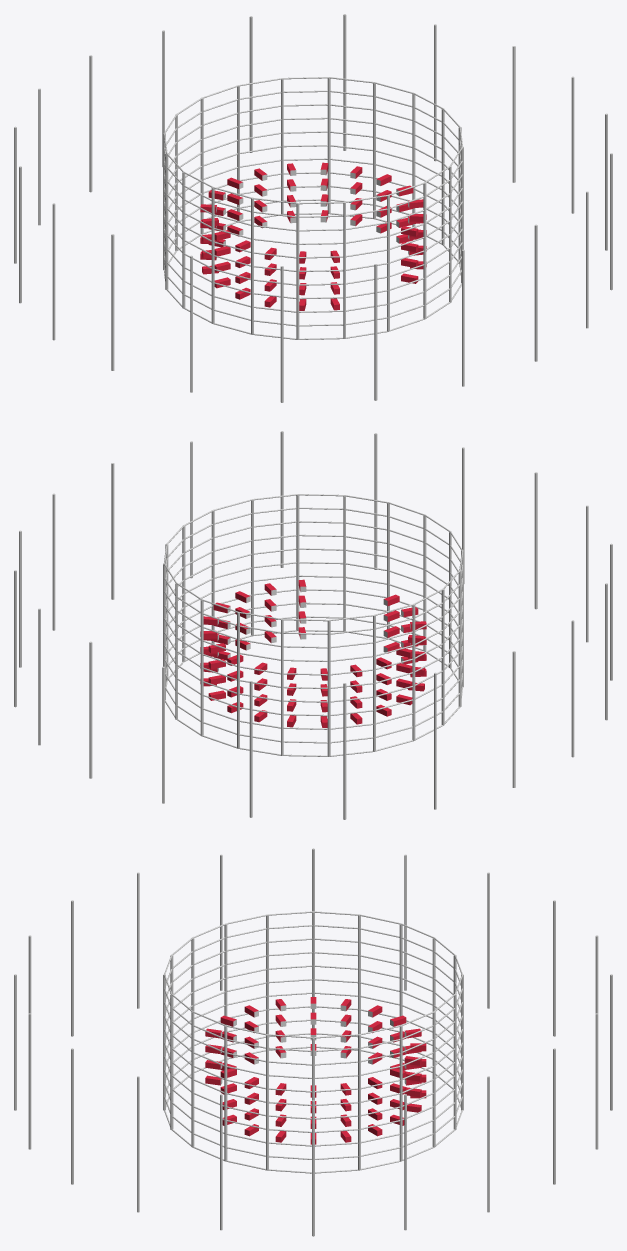
File: ExportedBlenderFBXFile.fbx
The picture shows the model from 3 angles, top to bottom: view 1: azimuth 30°, elevation 25°; view 2: azimuth 150°, elevation 25°; view 3: azimuth 270°, elevation 25°; orthographic projection.
Visible parts, largest first — view 1: Cylinder.012, Cylinder.011, Cylinder.002, Cylinder.005, Cylinder.010, Cylinder.013, Cylinder.001, Cylinder.014, Cylinder, Cylinder.003, Cylinder.015, Cylinder.006 (+16 smaller); view 2: Cylinder.016, Cylinder.006, Cylinder.018, Cylinder.017, Cylinder.015, Cylinder.005, Cylinder.007, Cylinder, Cylinder.019, Cylinder.008, Cylinder.001, Cylinder.009 (+15 smaller); view 3: Cylinder.003, Cylinder.004, Cylinder.008, Cylinder.007, Cylinder.014, Cylinder.002, Cylinder.019, Cylinder.009, Cylinder.013, Cylinder.018, Cylinder.006, Cylinder.001 (+9 smaller).
Boxes of the visible parts, x1=… form: Cylinder.012: x1=252, y1=197, x2=299, y2=339; Cylinder.011: x1=298, y1=202, x2=345, y2=339; Cylinder.002: x1=327, y1=77, x2=374, y2=218; Cylinder.005: x1=388, y1=182, x2=426, y2=331; Cylinder.010: x1=344, y1=195, x2=389, y2=338; Cylinder.013: x1=213, y1=187, x2=253, y2=334; Cylinder.001: x1=281, y1=77, x2=329, y2=214; Cylinder.014: x1=183, y1=171, x2=214, y2=323; Cylinder: x1=237, y1=78, x2=282, y2=221; Cylinder.003: x1=373, y1=82, x2=413, y2=224; Cylinder.015: x1=200, y1=85, x2=238, y2=234; Cylinder.006: x1=425, y1=165, x2=451, y2=318; Cylinder.016: x1=282, y1=618, x2=330, y2=756; Cylinder.006: x1=296, y1=494, x2=344, y2=631; Cylinder.018: x1=374, y1=604, x2=415, y2=751; Cylinder.017: x1=329, y1=615, x2=375, y2=756; Cylinder.015: x1=238, y1=612, x2=283, y2=755; Cylinder.005: x1=343, y1=495, x2=388, y2=638; Cylinder.007: x1=251, y1=494, x2=297, y2=635; Cylinder: x1=202, y1=599, x2=239, y2=748; Cylinder.019: x1=414, y1=588, x2=444, y2=740; Cylinder.008: x1=211, y1=499, x2=252, y2=645; Cylinder.001: x1=176, y1=582, x2=203, y2=736; Cylinder.009: x1=182, y1=510, x2=213, y2=662; Cylinder.003: x1=359, y1=1025, x2=402, y2=1170; Cylinder.004: x1=313, y1=1034, x2=360, y2=1173; Cylinder.008: x1=225, y1=1025, x2=268, y2=1170; Cylinder.007: x1=192, y1=1011, x2=227, y2=1161; Cylinder.014: x1=266, y1=911, x2=313, y2=1050; Cylinder.002: x1=401, y1=1011, x2=435, y2=1160; Cylinder.019: x1=312, y1=911, x2=359, y2=1050; Cylinder.009: x1=267, y1=1034, x2=314, y2=1173; Cylinder.013: x1=224, y1=914, x2=267, y2=1059; Cylinder.018: x1=358, y1=914, x2=400, y2=1059; Cylinder.006: x1=171, y1=994, x2=194, y2=1147; Cylinder.001: x1=434, y1=994, x2=456, y2=1146.
Size of the model in its own units: 20.1 by 5.05 by 20.1.
